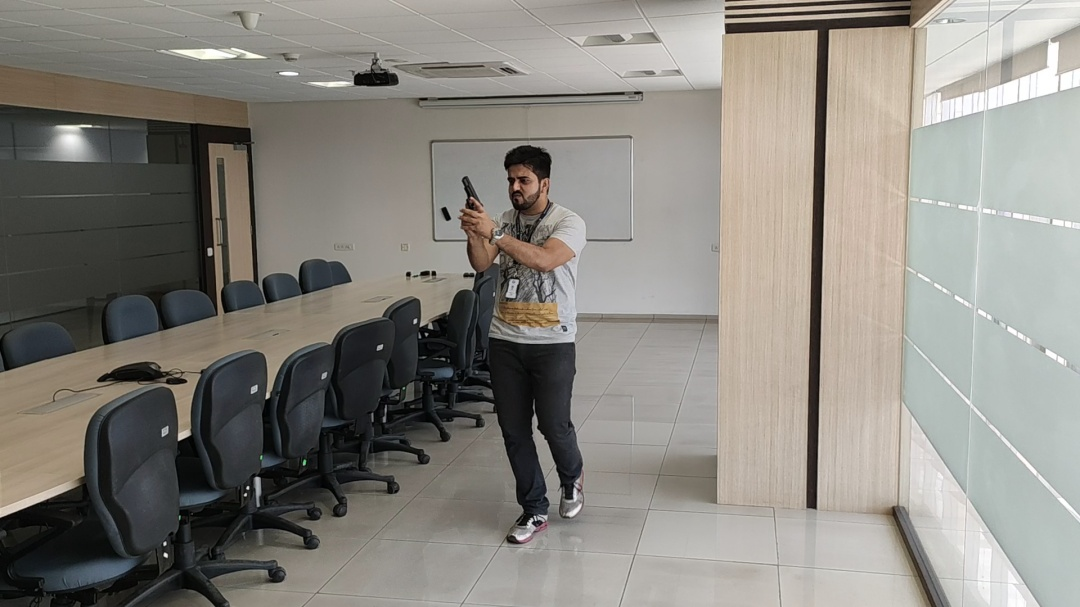gun: (456, 175, 489, 208)
